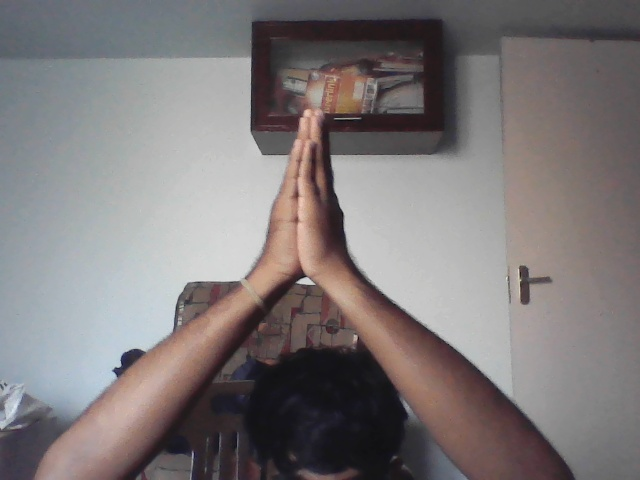Sign: (246, 105, 351, 305)
